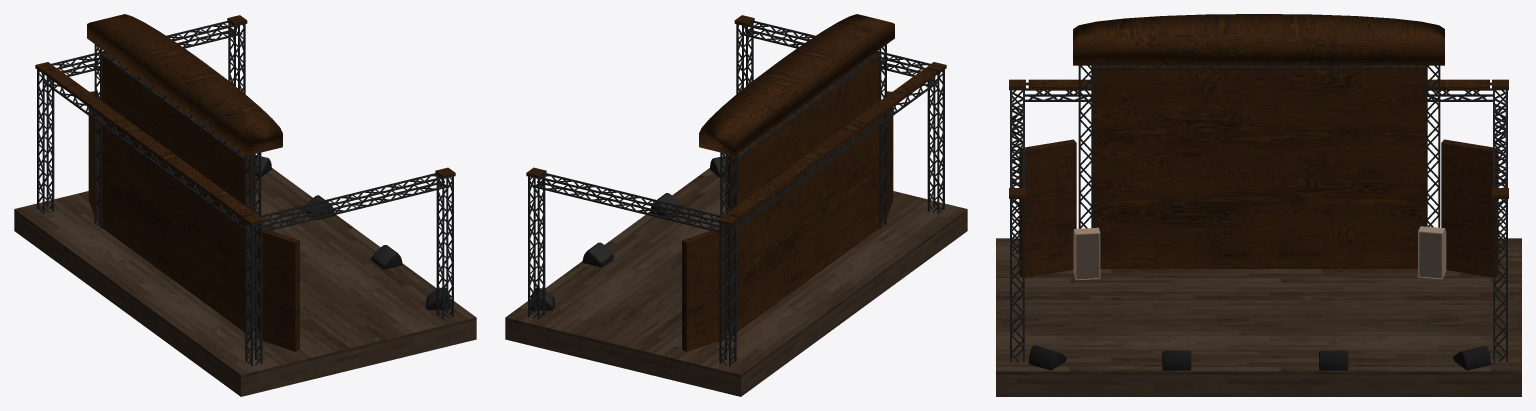
File: dj-pro.glb
The picture shows the model from 3 angles, left to right: view 1: azimuth 30°, elevation 25°; view 2: azimuth 150°, elevation 25°; view 3: azimuth 270°, elevation 25°; orthographic projection. The views are drawn at different scales.
Parts seen in each view (by area): view 1: Cube, Cube.005, Cube.001, Object_8.007, Cube.003, Object_8.010, Cube.004, Object_8.012, Object_8.001, Object_8.008, Object_8.009, Cube.002 (+2 smaller); view 2: Cube, Cube.005, Cube.001, Object_8.007, Cube.003, Object_8.010, Cube.004, Object_8.001, Object_8.012, Object_8.008, Object_8.009, Cube.002 (+2 smaller); view 3: Cube.005, Cube, Cube.001, Cube.003, Object_8.007, Object_8.010, Object_8.012, Object_8.001, Object_8.014, Object_8.013, Cube.004, Object_8.004 (+7 smaller).
Part boxes in pixels (x1,y1,x2,y2): Cube: (14,168,476,396); Cube.005: (102,53,253,332); Cube.001: (87,14,282,155); Object_8.007: (37,22,453,366); Cube.003: (88,91,299,351); Object_8.010: (51,20,450,232); Cube.004: (44,68,255,219); Object_8.012: (244,152,261,336); Object_8.001: (94,44,105,228); Object_8.008: (43,77,153,160); Object_8.009: (150,153,254,229); Cube.002: (35,15,455,225); Cube: (505,154,967,396); Cube.005: (728,53,879,332); Cube.001: (699,14,894,155); Object_8.007: (528,22,944,366); Cube.003: (682,91,893,351); Object_8.010: (531,20,930,232); Cube.004: (726,68,937,219); Object_8.001: (720,152,737,336); Object_8.012: (876,44,886,228); Object_8.008: (727,145,844,229); Object_8.009: (839,76,937,151); Cube.002: (526,15,946,225); Cube.005: (1093,65,1425,268); Cube: (996,238,1521,396); Cube.001: (1073,14,1444,65); Cube.003: (1019,139,1498,277); Object_8.007: (1010,90,1507,361); Object_8.010: (1010,89,1507,207); Object_8.012: (1078,65,1093,228); Object_8.001: (1425,65,1440,227); Object_8.014: (1418,226,1446,279); Object_8.013: (1073,227,1100,280); Cube.004: (1028,79,1489,90); Object_8.004: (1174,65,1425,69).
Size of the model in its own units: 45 by 42.8 by 75.
8 materials, 7 textured.
